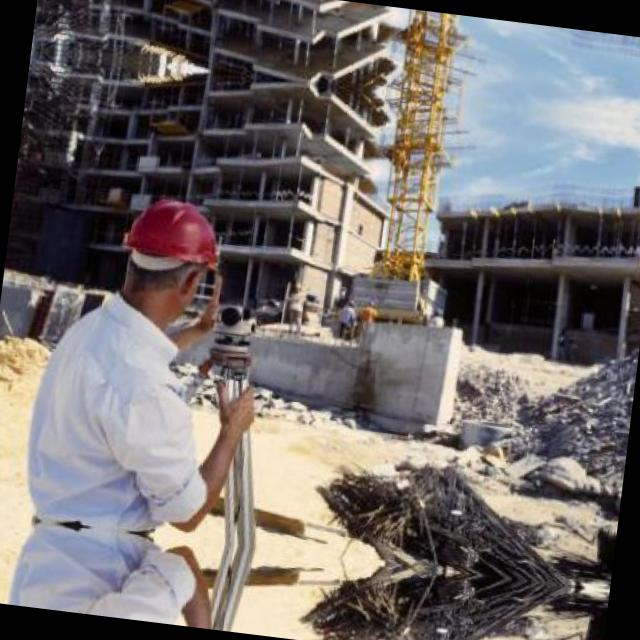helmet: (102, 178, 238, 331)
